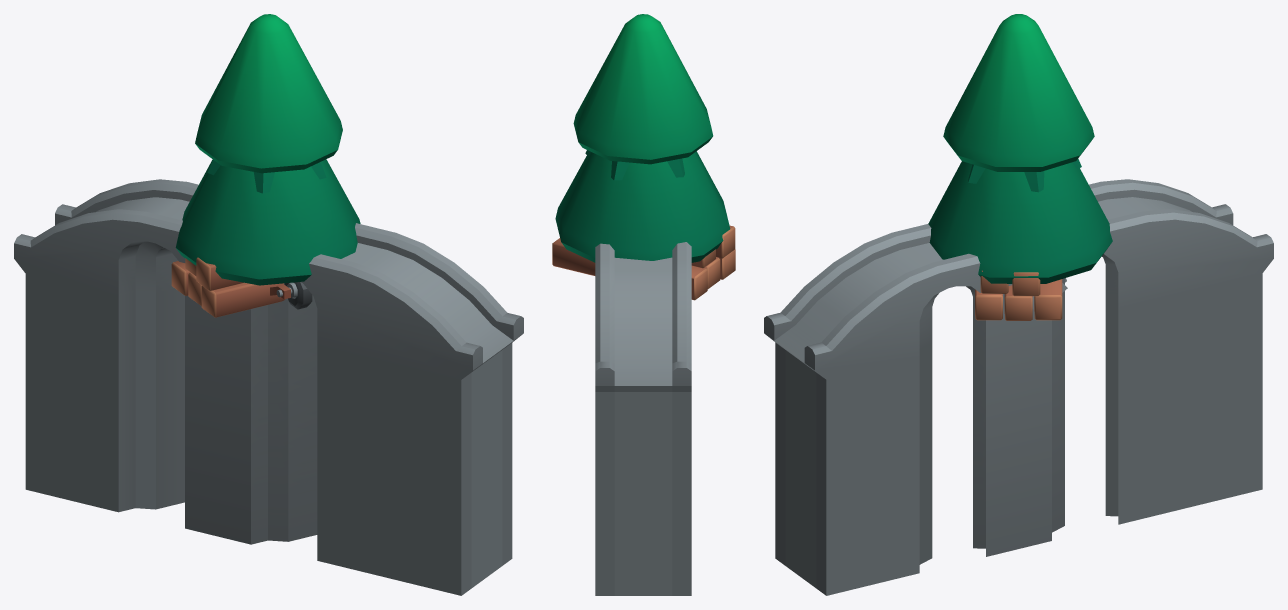
File: lang.glb
3 views of the same model, side by side, from view 1: azimuth 30°, elevation 25°; view 2: azimuth 150°, elevation 25°; view 3: azimuth 270°, elevation 25° (orthographic). The views are drawn at different scales.
Visible parts, largest first — view 1: building_bridge_A, tree_single_B, resource_lumber, wheelbarrow; view 2: building_bridge_A, tree_single_B, resource_lumber, tree_single_A; view 3: building_bridge_A, tree_single_B, resource_lumber.
Boxes of the visible parts, bbox=[...] form: building_bridge_A: bbox=[14, 179, 523, 595]; tree_single_B: bbox=[175, 14, 360, 285]; resource_lumber: bbox=[171, 257, 285, 317]; wheelbarrow: bbox=[270, 282, 312, 309]; building_bridge_A: bbox=[595, 242, 691, 595]; tree_single_B: bbox=[555, 14, 730, 262]; resource_lumber: bbox=[552, 225, 735, 300]; tree_single_A: bbox=[585, 150, 684, 180]; building_bridge_A: bbox=[764, 179, 1273, 595]; tree_single_B: bbox=[928, 14, 1112, 283]; resource_lumber: bbox=[975, 270, 1062, 320].
Bounding box in the file's own units: 1.33 × 2.11 × 1.92.
Materials: 1 (1 with a texture image).
